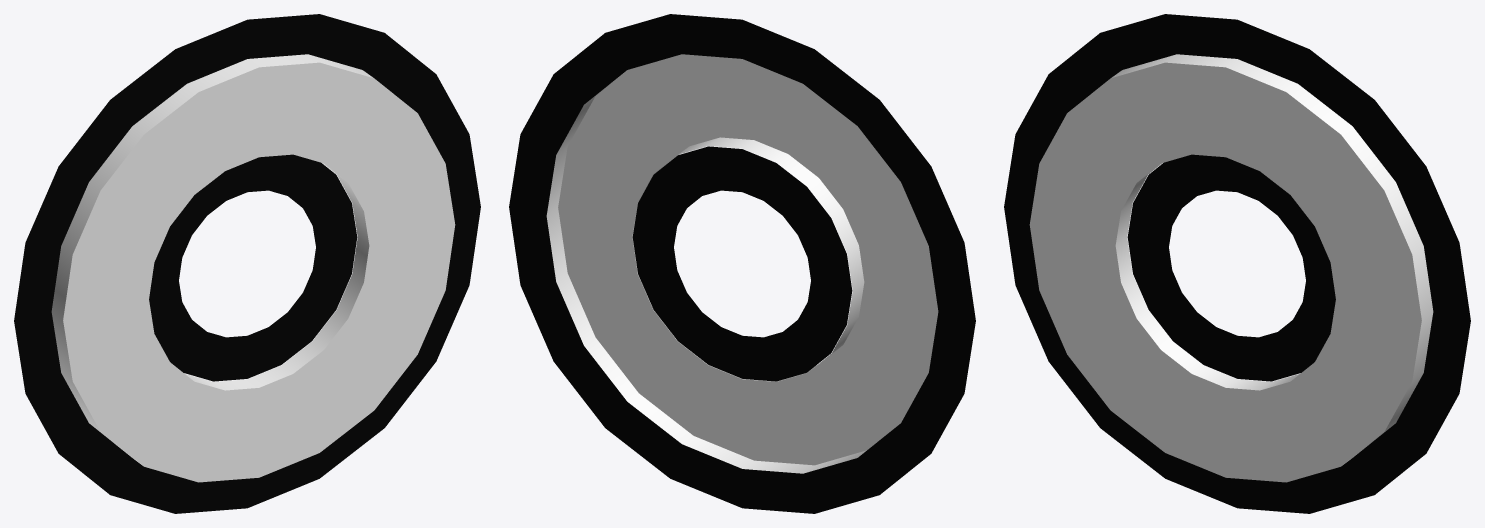
Rendered from cursor_ready.fbx.
3 views of the same model, side by side, from view 1: azimuth 30°, elevation 25°; view 2: azimuth 150°, elevation 25°; view 3: azimuth 330°, elevation 25° (orthographic).
Visible parts, largest first — view 1: ring_interaction_geo; view 2: ring_interaction_geo; view 3: ring_interaction_geo.
Boxes of the visible parts, x1=… form: ring_interaction_geo: x1=14, y1=14, x2=480, y2=513; ring_interaction_geo: x1=509, y1=14, x2=975, y2=513; ring_interaction_geo: x1=1004, y1=14, x2=1470, y2=513.
Size of the model in its own units: 2.31 by 2.31 by 0.1003.
Materials: 1 (1 with a texture image).
